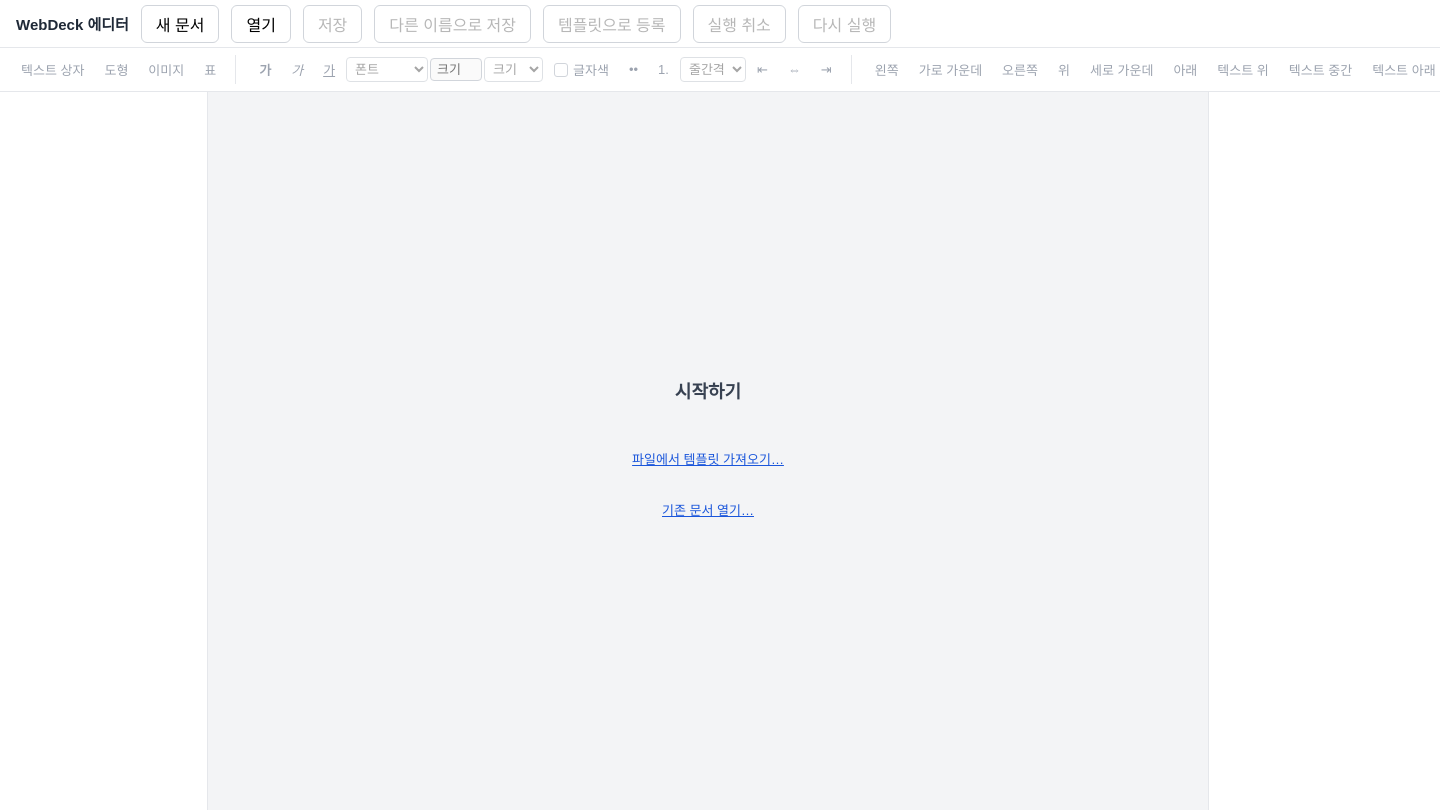
다른 이름으로 저장은 피커로 핸들을 얻고 파일명을 교체한다
Click the button "열기": (261, 24) x1=231 y1=4 x2=291 y2=42
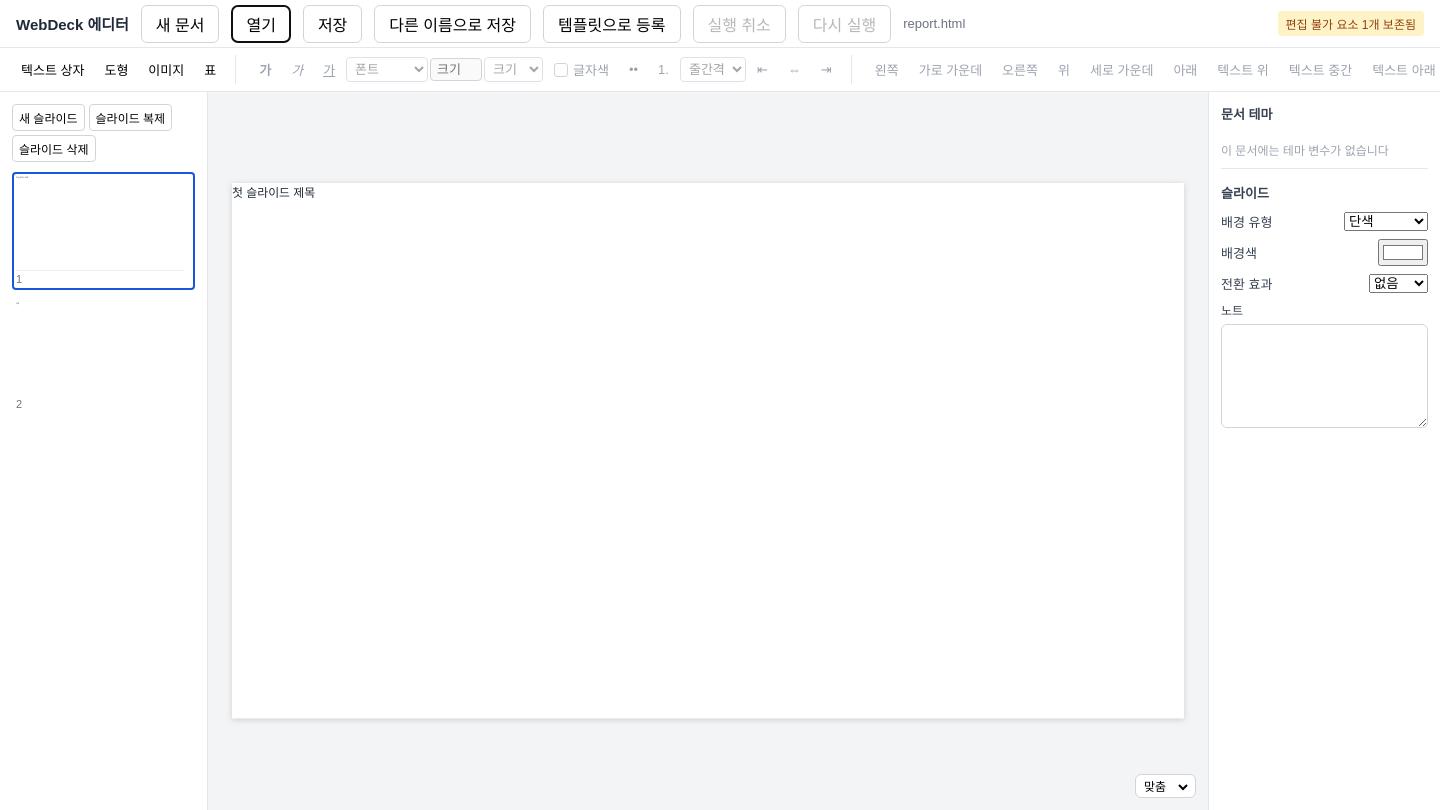
Click the button "다른 이름으로 저장": (453, 24) x1=374 y1=4 x2=531 y2=42
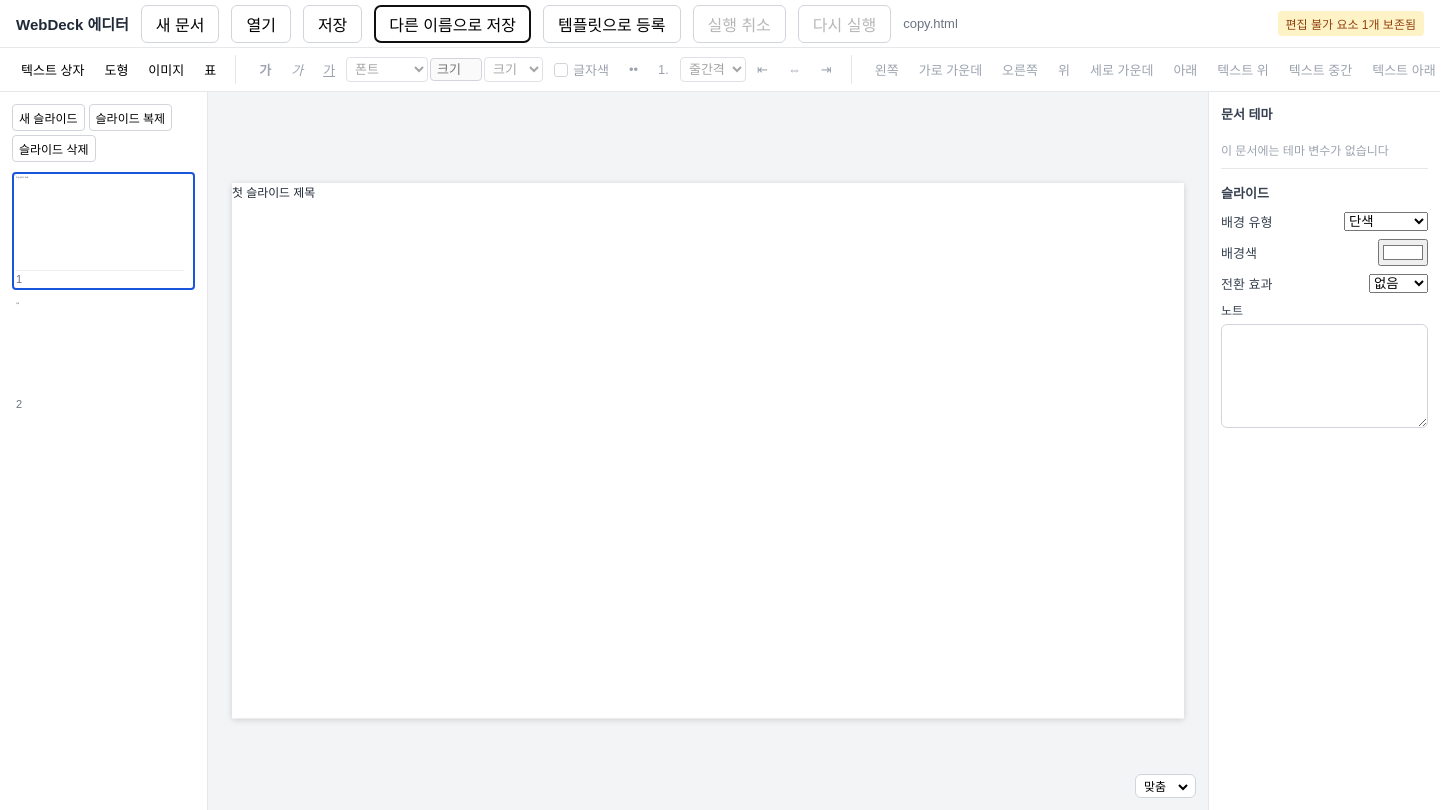
Now the text "copy.html" is shown, box x1=903 y1=16 x2=958 y2=31
